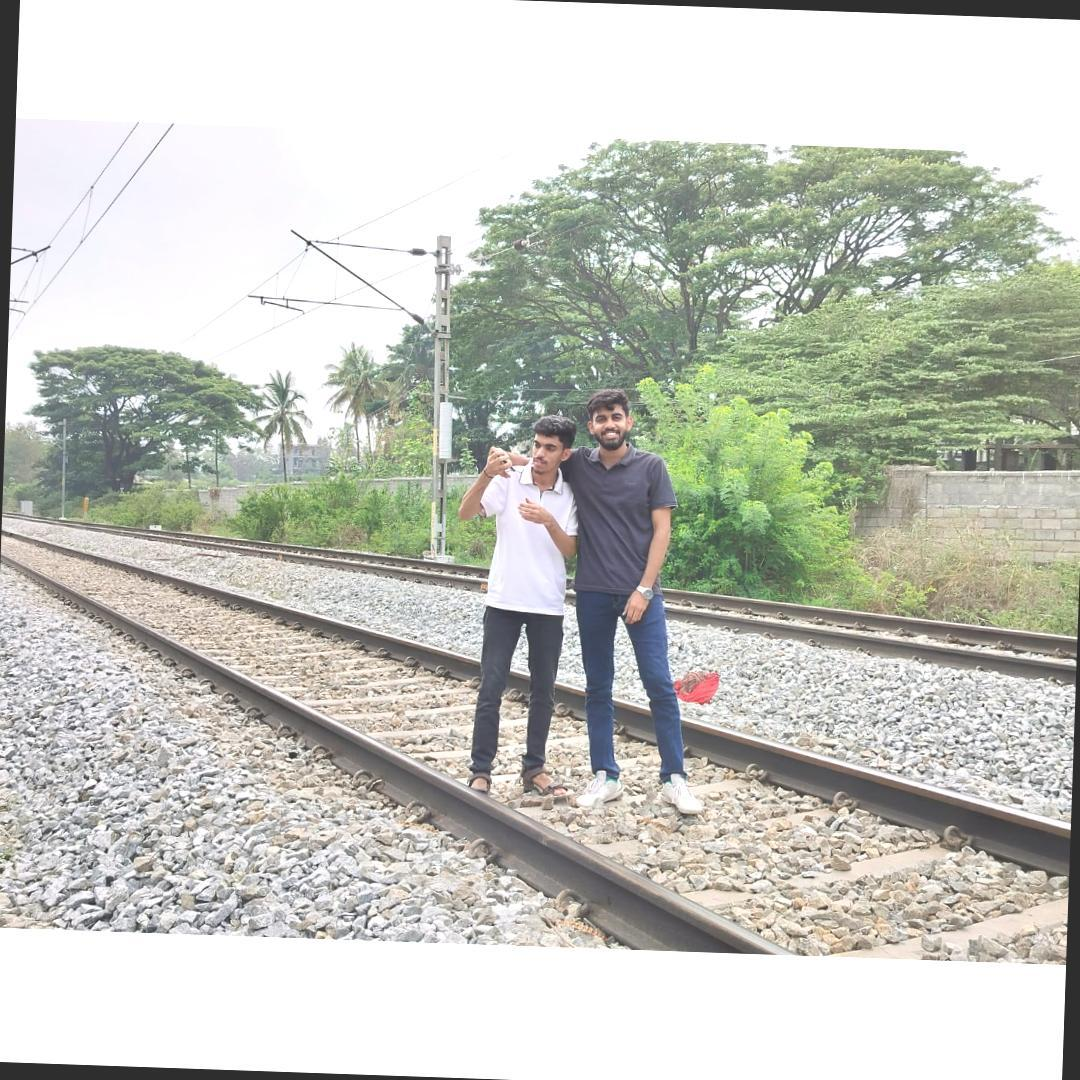standing: (566, 389, 706, 817), (451, 410, 581, 798)
track: (2, 520, 1066, 959)
